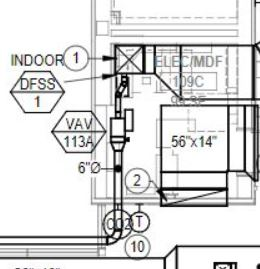VAV: (102, 103, 140, 153)
